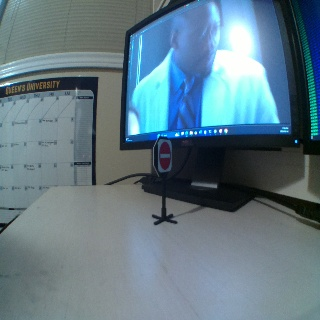sign_noentry: (156, 139, 172, 171)
